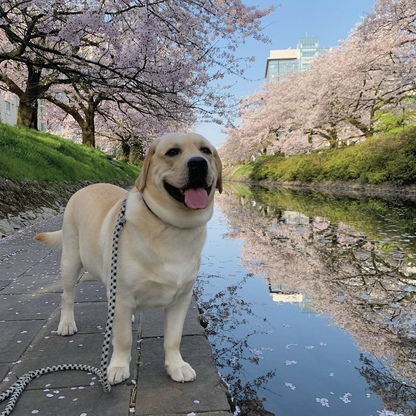labrado: (30, 129, 226, 390)
